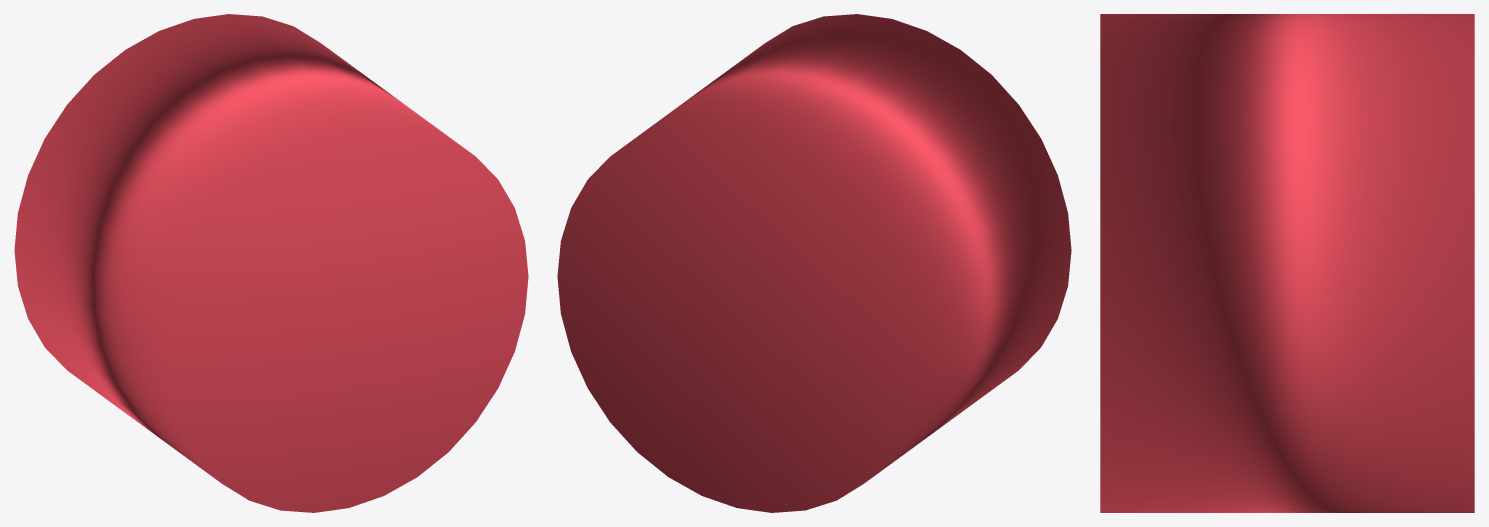
Rendered from GT3_Yoke_Button_FCY_Speed.glb.
The picture shows the model from 3 angles, left to right: view 1: azimuth 30°, elevation 25°; view 2: azimuth 150°, elevation 25°; view 3: azimuth 270°, elevation 25°; orthographic projection. The views are drawn at different scales.
Visible parts, largest first — view 1: GT3_Yoke_Button_FCY_Speed; view 2: GT3_Yoke_Button_FCY_Speed; view 3: GT3_Yoke_Button_FCY_Speed.
Boxes of the visible parts, x1=… form: GT3_Yoke_Button_FCY_Speed: x1=14, y1=14, x2=528, y2=512; GT3_Yoke_Button_FCY_Speed: x1=557, y1=14, x2=1071, y2=512; GT3_Yoke_Button_FCY_Speed: x1=1100, y1=14, x2=1474, y2=512.
Bounding box in the file's own units: 0.016 × 0.016 × 0.012.
